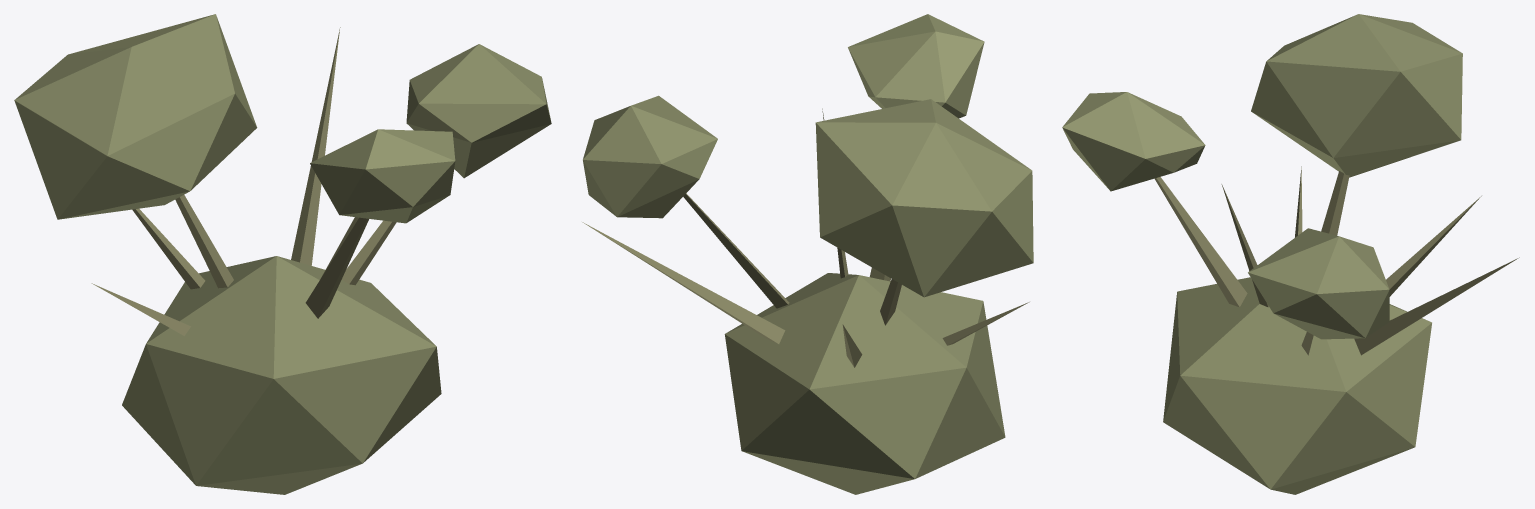
The model's file is scrub_1.glb.
3 renders of one model, left to right at view 1: azimuth 30°, elevation 25°; view 2: azimuth 150°, elevation 25°; view 3: azimuth 270°, elevation 25°, orthographic. The views are drawn at different scales.
Parts seen in each view (by area): view 1: scrub_1.001; view 2: scrub_1.001; view 3: scrub_1.001.
Boxes of the visible parts, left/top/right/bottom form: scrub_1.001: left=14, top=14, right=551, bottom=494; scrub_1.001: left=582, top=14, right=1033, bottom=494; scrub_1.001: left=1062, top=14, right=1519, bottom=494.
Size of the model in its own units: 1.69 by 1.53 by 1.49.
